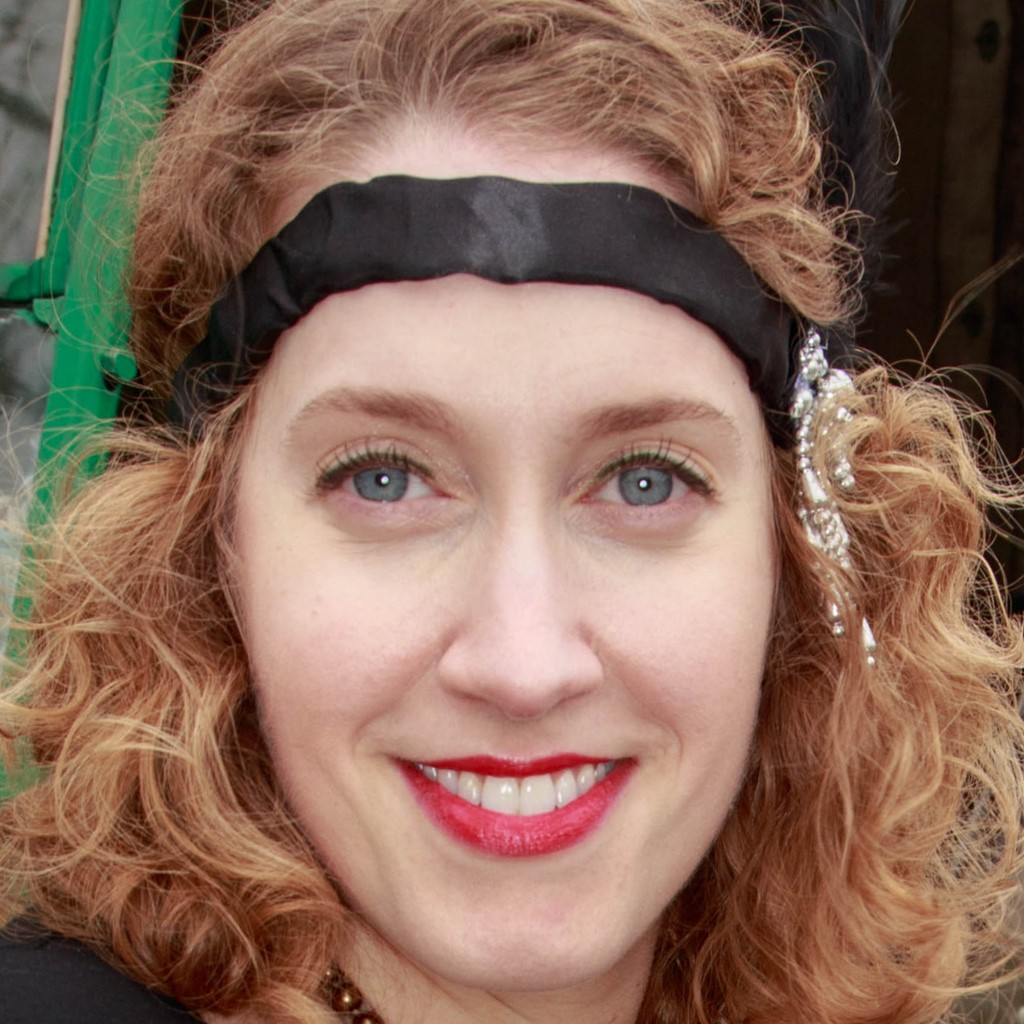sin_mascara: (215, 112, 817, 955)
